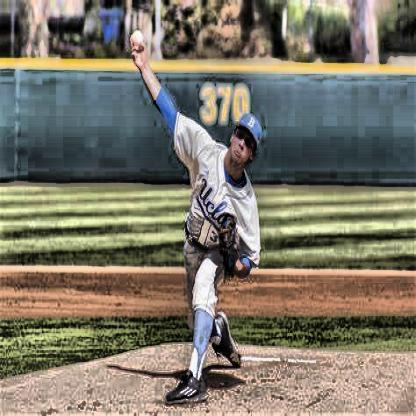baseball: (130, 30, 146, 48)
